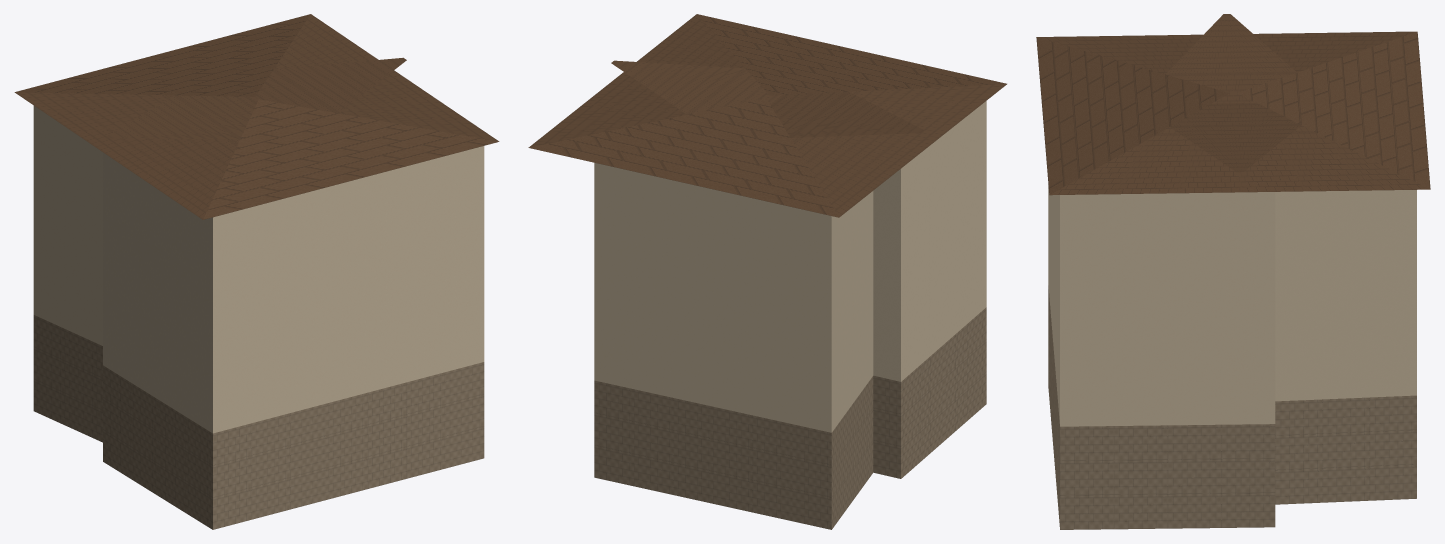
Rendered from bld_c11_9_510.gltf.
3 renders of one model, left to right at view 1: azimuth 30°, elevation 25°; view 2: azimuth 150°, elevation 25°; view 3: azimuth 270°, elevation 25°, orthographic. The views are drawn at different scales.
Visible parts, largest first — view 1: bld_c11_9_510; view 2: bld_c11_9_510; view 3: bld_c11_9_510.
Boxes of the visible parts, bbox=[...] form: bld_c11_9_510: bbox=[14, 14, 499, 529]; bld_c11_9_510: bbox=[528, 14, 1006, 529]; bld_c11_9_510: bbox=[1036, 14, 1430, 529].
Size of the model in its own units: 17.34 by 17.8 by 17.64.
Materials: 3 (3 with a texture image).
